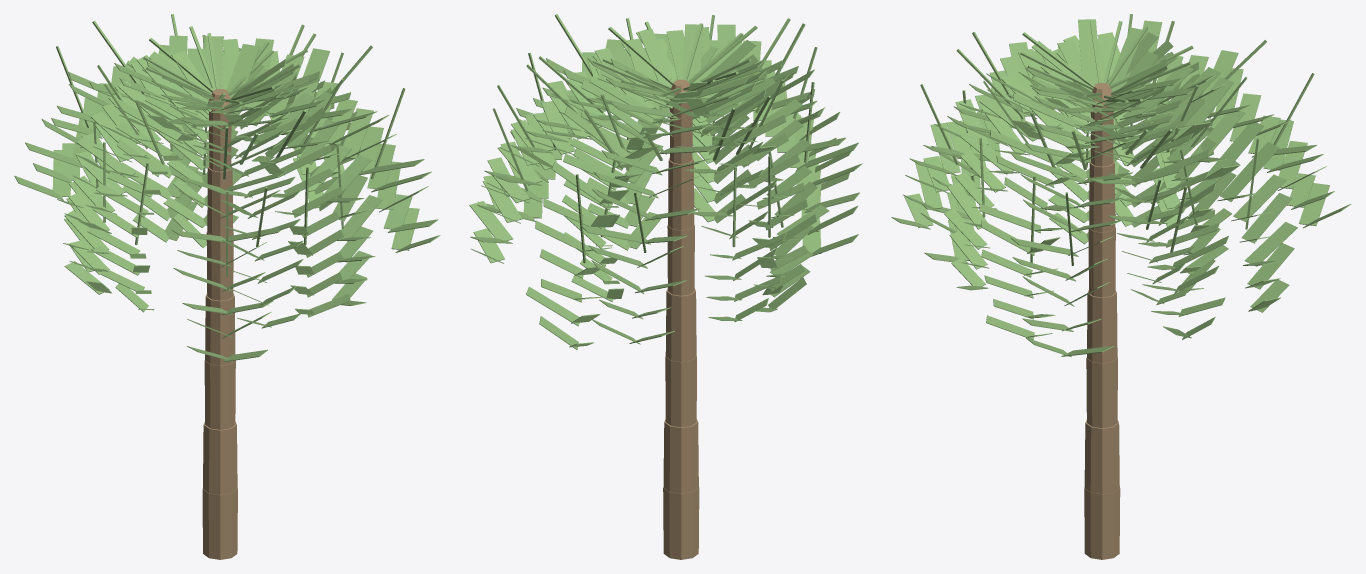
Rendered from palm_tall.glb.
3 views of the same model, side by side, from view 1: azimuth 30°, elevation 25°; view 2: azimuth 150°, elevation 25°; view 3: azimuth 270°, elevation 25° (orthographic).
Parts seen in each view (by area): view 1: botanical-glasshouse-and-palm-house-palm-tall; view 2: botanical-glasshouse-and-palm-house-palm-tall; view 3: botanical-glasshouse-and-palm-house-palm-tall.
Part boxes in pixels (<box>): botanical-glasshouse-and-palm-house-palm-tall: <box>14,14,440,559</box>; botanical-glasshouse-and-palm-house-palm-tall: <box>469,14,862,559</box>; botanical-glasshouse-and-palm-house-palm-tall: <box>891,14,1351,559</box>.
Bounding box in the file's own units: 4.24 × 5.97 × 4.95.
